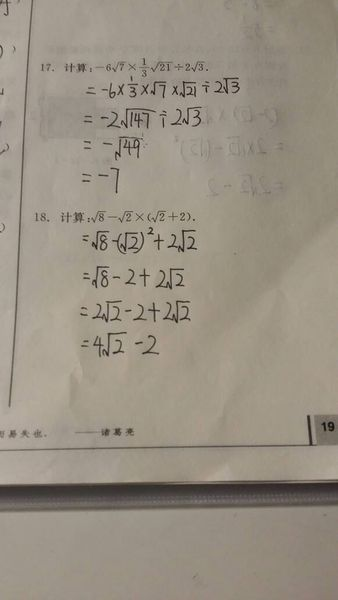sqrt: (113, 134, 144, 160), (164, 264, 191, 292), (101, 295, 125, 325), (171, 298, 198, 324), (122, 228, 139, 252), (112, 56, 129, 74), (150, 60, 173, 72)
square: (143, 223, 157, 241)
